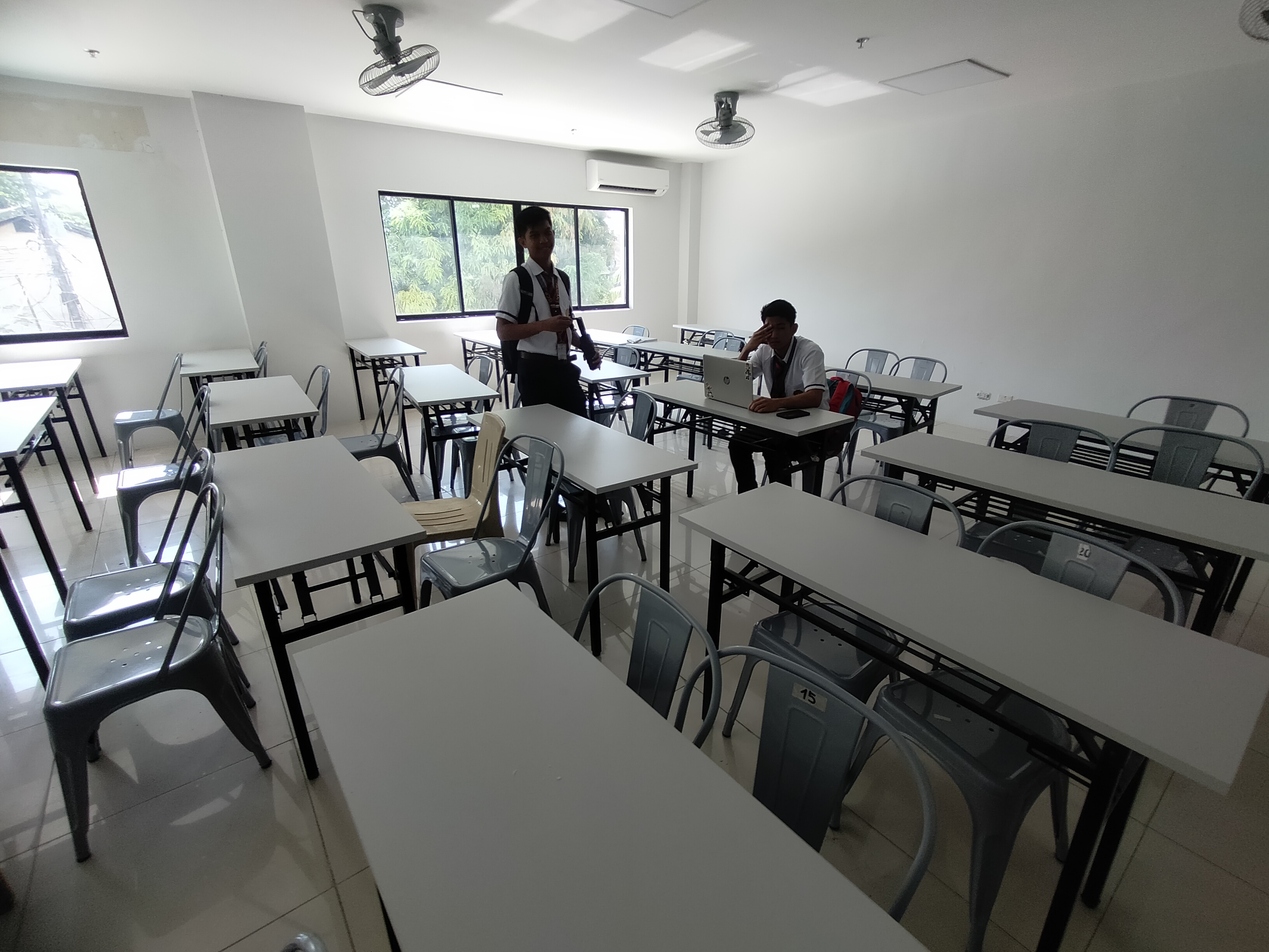with-student: (629, 296, 871, 507)
